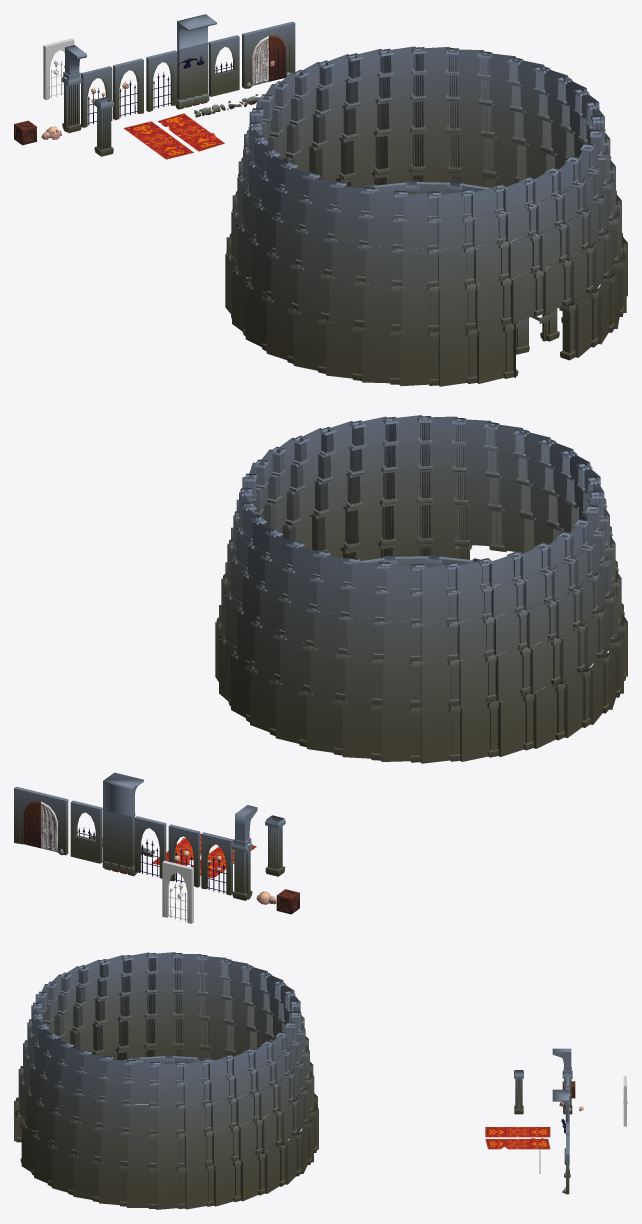
Rendered from WRLD_BLEND_ASSET_KIT_V3.fbx.
The picture shows the model from 3 angles, top to bottom: view 1: azimuth 30°, elevation 25°; view 2: azimuth 150°, elevation 25°; view 3: azimuth 270°, elevation 25°; orthographic projection. The views are drawn at different scales.
Parts seen in each view (by area): view 1: Cube.025, Cube.024, Cube.007, Cylinder.003, Cube.001, Plane, Plane.001, Cube.020, Cube.022, Cube.002, Cube.026, Cube.003 (+5 smaller); view 2: Cube.025, Cube.001, Cube.007, Cylinder.003, Cube.022, Cube.005, Cube.020, Cube.003, Cube.002, Cube.026, Cube.024, Cube.008 (+2 smaller); view 3: Cube.025, Plane, Plane.001, Cube.024, Cube.026.
Part boxes in pixels (box(x1,y1,x2,y2)): Cube.025: box(225, 46, 627, 386); Cube.024: box(320, 180, 582, 354); Cube.007: box(242, 21, 295, 88); Cylinder.003: box(208, 35, 239, 96); Cube.001: box(177, 45, 207, 100); Plane: box(123, 121, 193, 159); Plane.001: box(157, 113, 224, 151); Cube.020: box(146, 50, 177, 111); Cube.022: box(177, 14, 216, 51); Cube.002: box(113, 58, 143, 120); Cube.026: box(94, 96, 114, 156); Cube.003: box(81, 66, 112, 127); Cube.025: box(215, 415, 627, 763); Cube.001: box(103, 810, 134, 870); Cube.007: box(14, 786, 68, 855); Cylinder.003: box(70, 800, 102, 863); Cube.022: box(103, 772, 143, 817); Cube.005: box(162, 860, 193, 923); Cube.020: box(134, 816, 166, 878); Cube.003: box(201, 832, 232, 895); Cube.002: box(168, 824, 200, 887); Cube.026: box(265, 815, 285, 876); Cube.024: box(337, 554, 573, 680); Cube.008: box(23, 801, 40, 848); Cube.025: box(14, 952, 318, 1209); Plane: box(485, 1127, 550, 1137); Plane.001: box(485, 1138, 550, 1149); Cube.024: box(50, 1054, 287, 1150); Cube.026: box(514, 1070, 523, 1114).
Bounding box in the file's own units: 2059 × 1041 × 4145.
